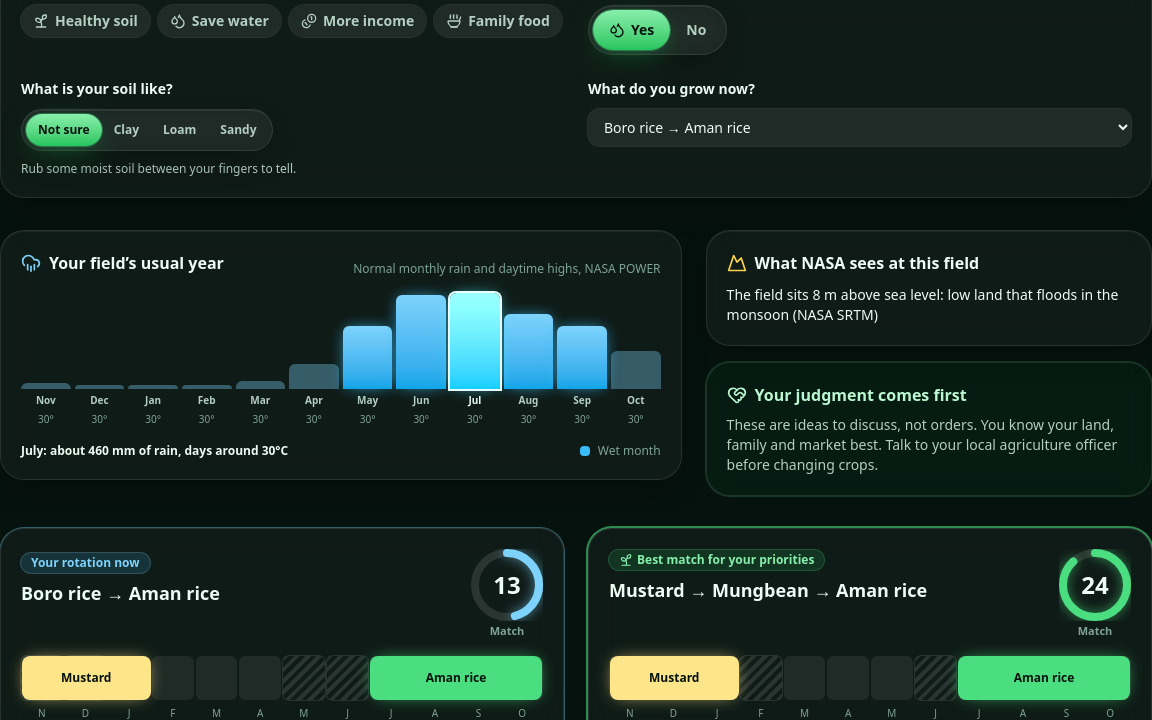
Scenario: RotationPage › pointing at a month reads out its normal rain and heat
(page scrolled)
Step 1. Click the button with aria-label "April: about 120 mm" → (314, 360), box [289, 293, 339, 427]
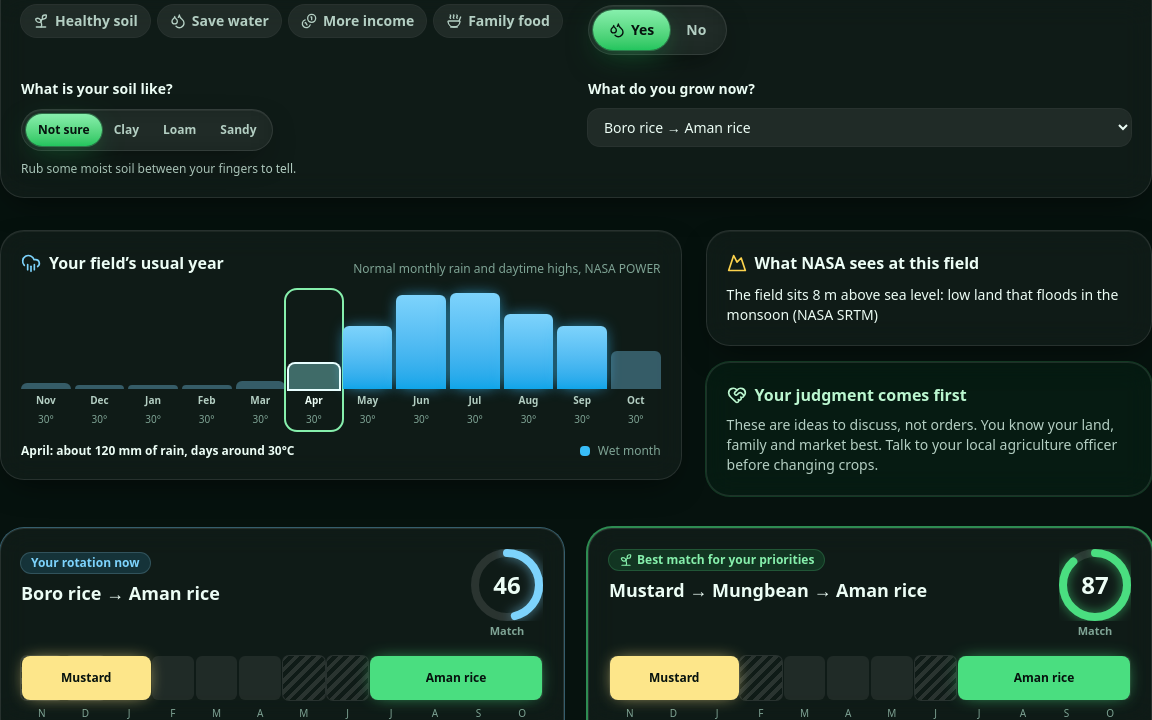
expect the text "April: about 120 mm of rain, days around 30°C" is shown: met, box [21, 443, 294, 459]
